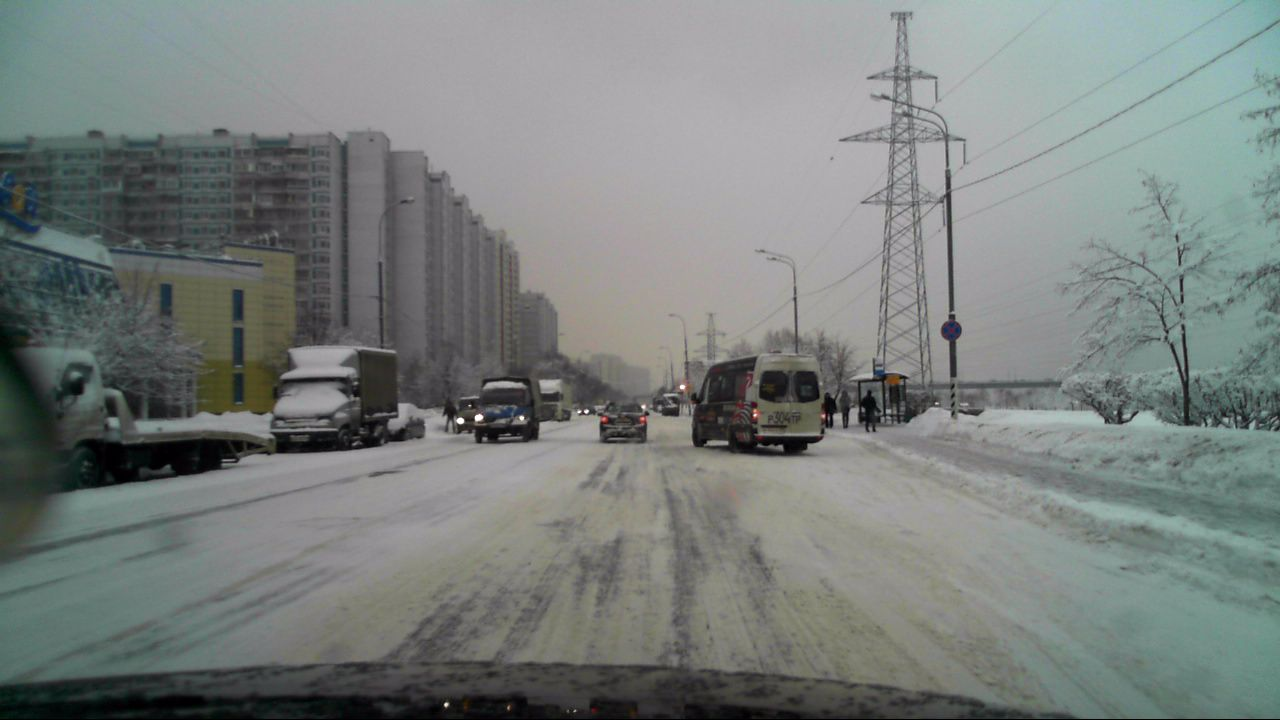No Parking: (938, 319, 964, 342)
